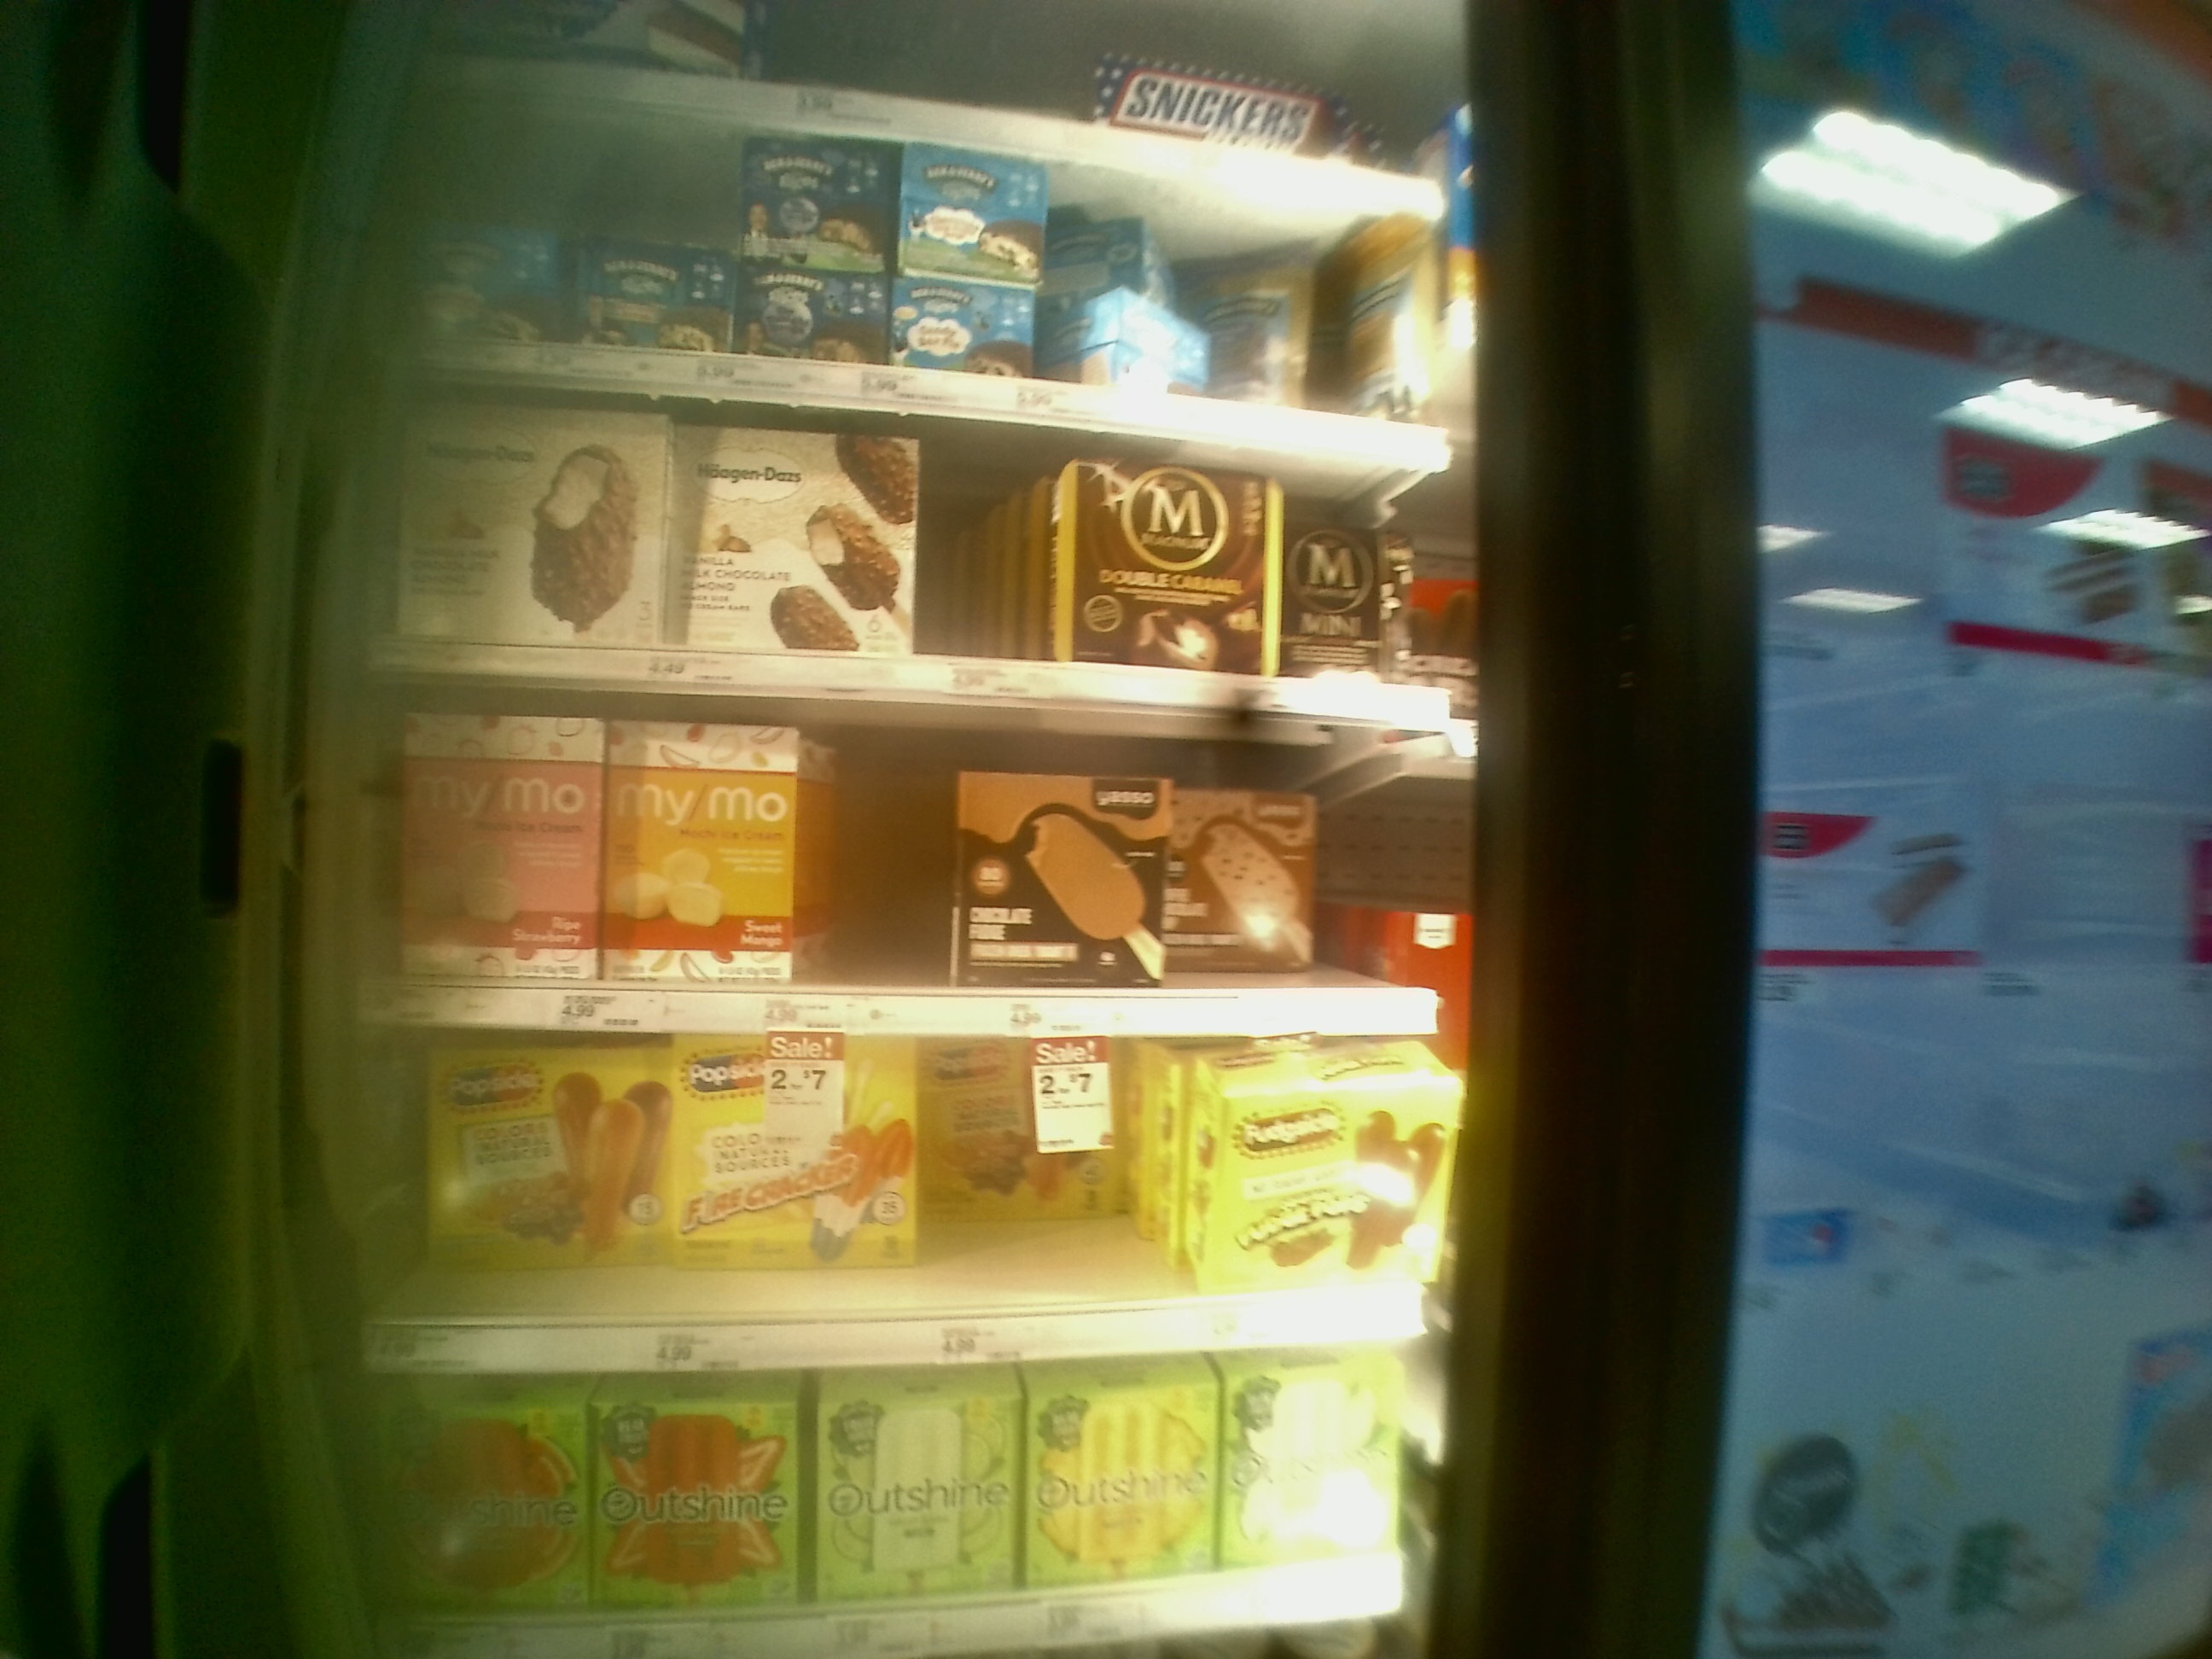shelf: (355, 681, 1474, 1040), (369, 364, 1480, 723), (371, 1033, 1456, 1378)
